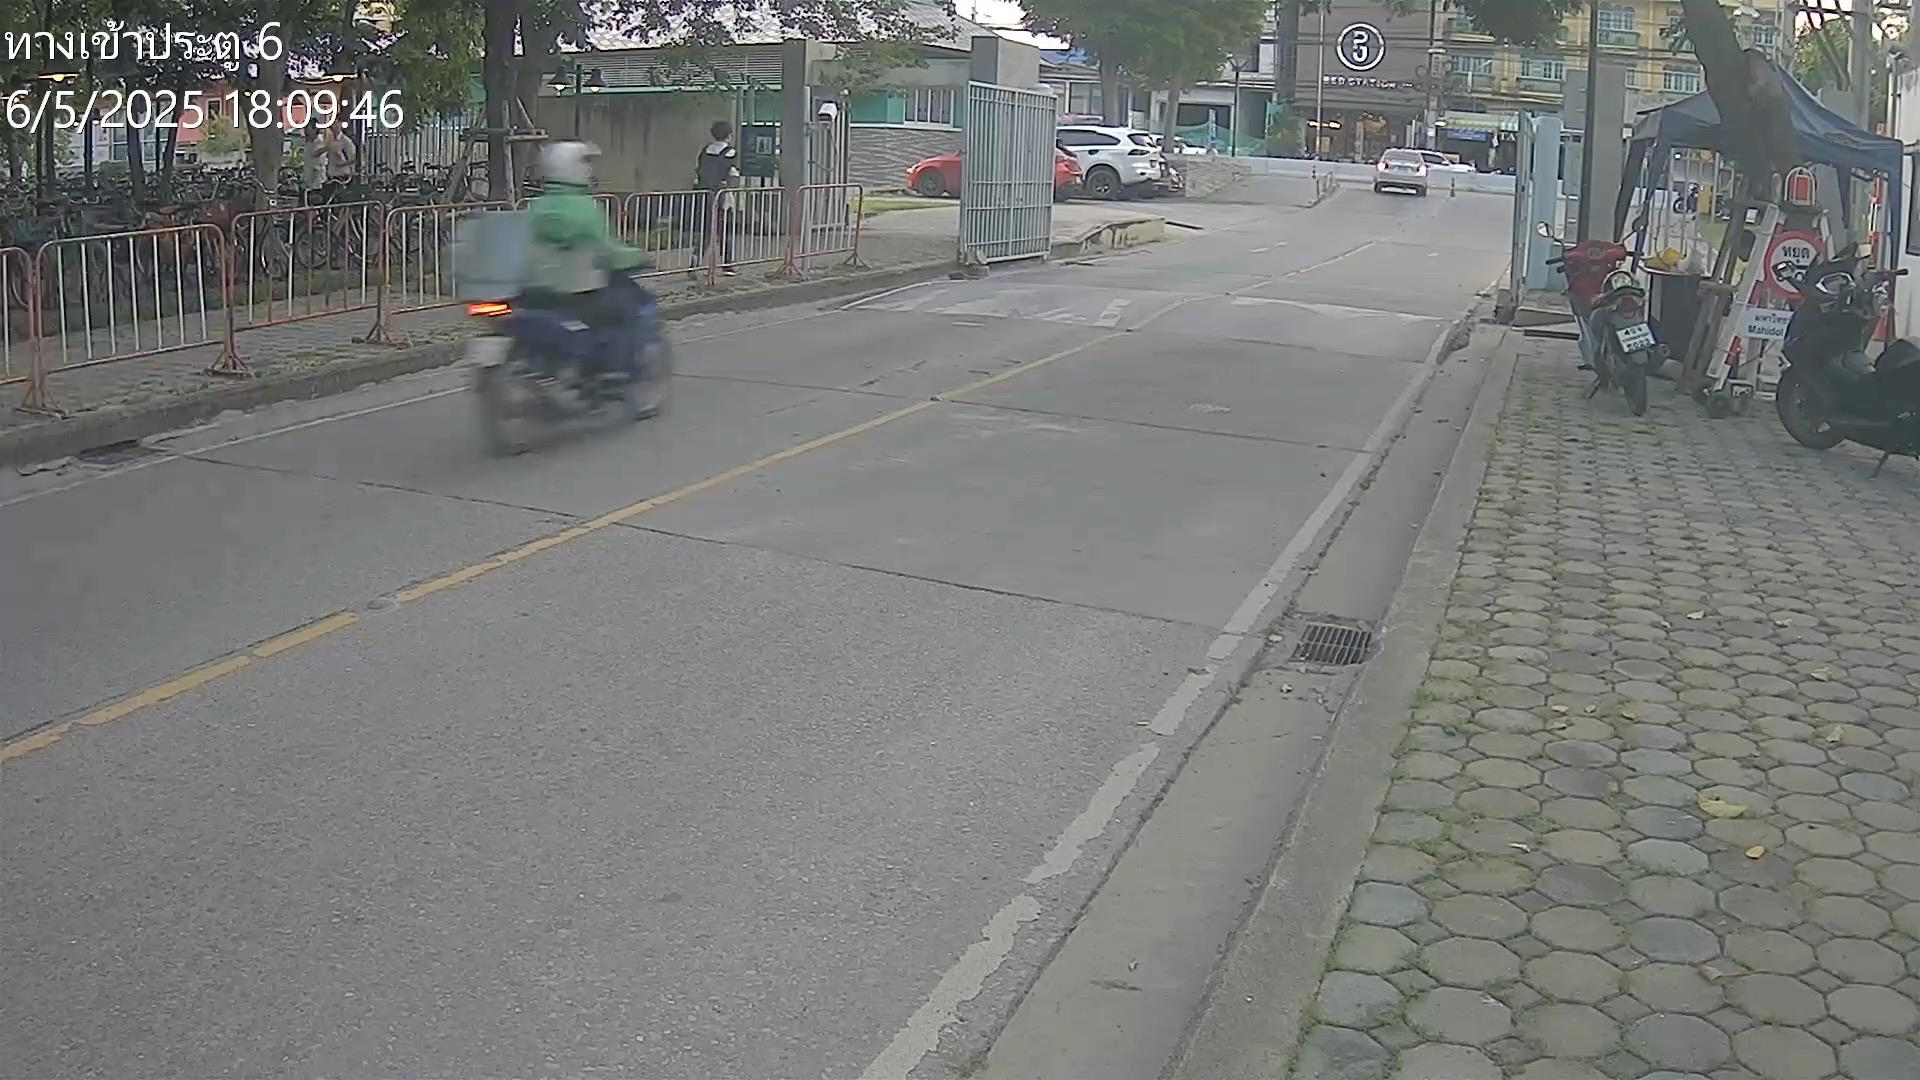With-Helmet: (537, 137, 603, 187)
